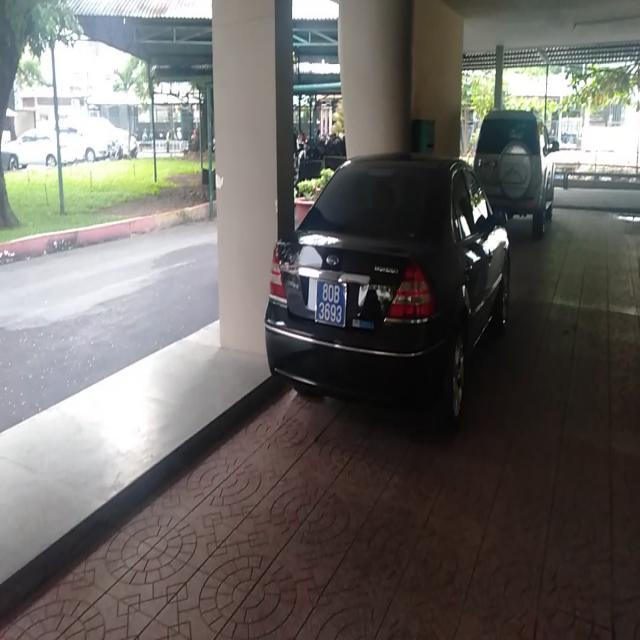bien_xanh: (314, 276, 347, 330)
